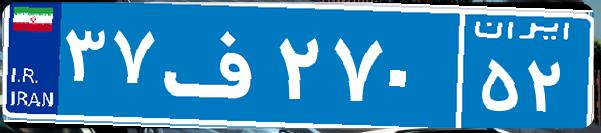0: (385, 28, 445, 110)
2: (273, 28, 330, 110), (525, 38, 570, 115)
3: (57, 26, 110, 107)
5: (475, 38, 525, 113)
7: (330, 28, 385, 110), (110, 28, 158, 105)
ف: (158, 15, 273, 115)
